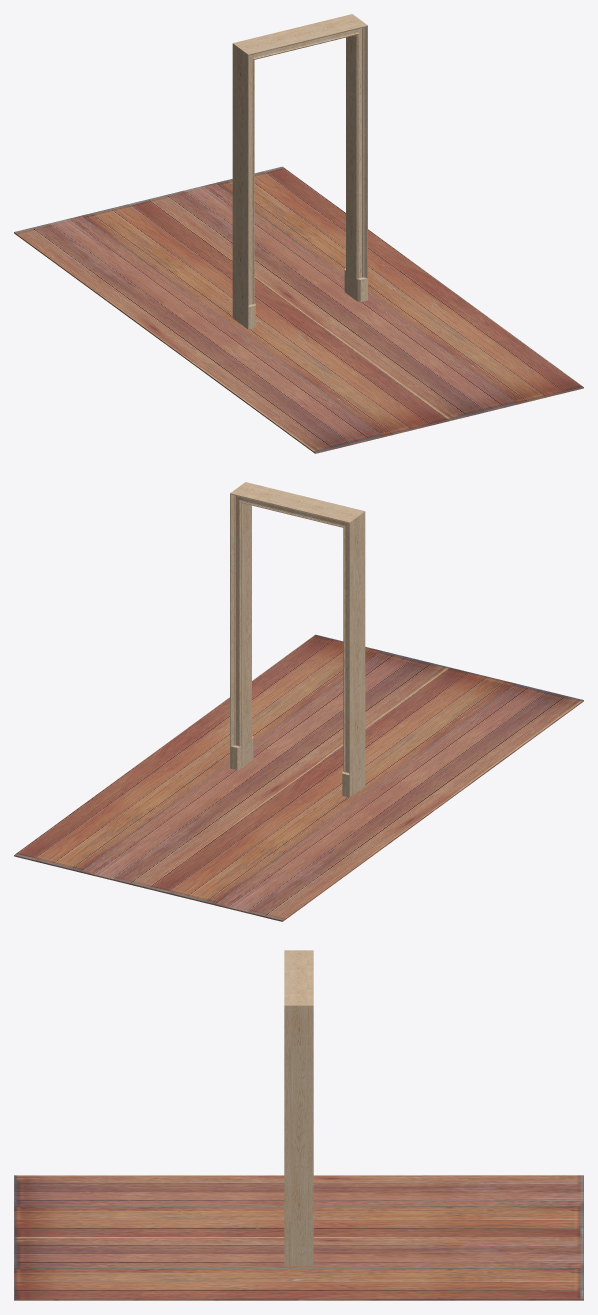
File: doorframe.FBX
3 renders of one model, top to bottom at view 1: azimuth 30°, elevation 25°; view 2: azimuth 150°, elevation 25°; view 3: azimuth 270°, elevation 25°, orthographic. The views are drawn at different scales.
Parts seen in each view (by area): view 1: Box003; view 2: Box003; view 3: Box003.
Part boxes in pixels (x1,y1,x2,y2): Box003: [14, 14, 583, 453]; Box003: [14, 482, 583, 921]; Box003: [14, 950, 583, 1300].
Bounding box in the file's own units: 2.83 × 2.79 × 5.51.
2 materials, 2 textured.
